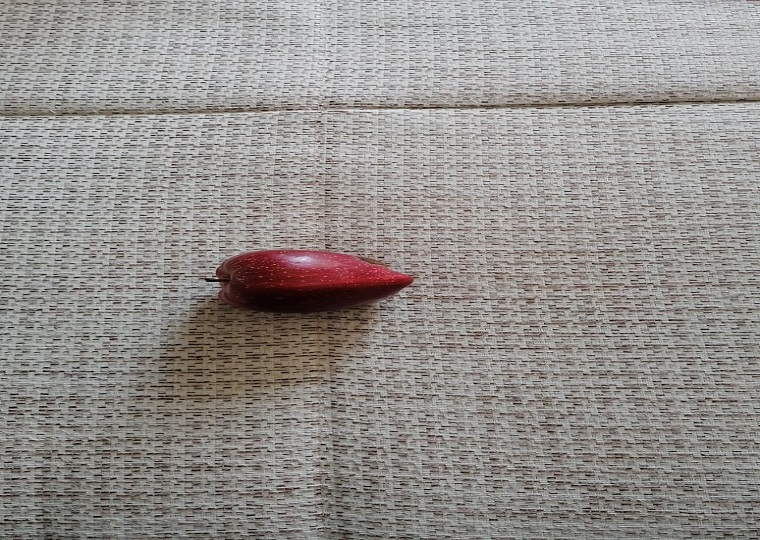elma: (206, 248, 415, 315)
